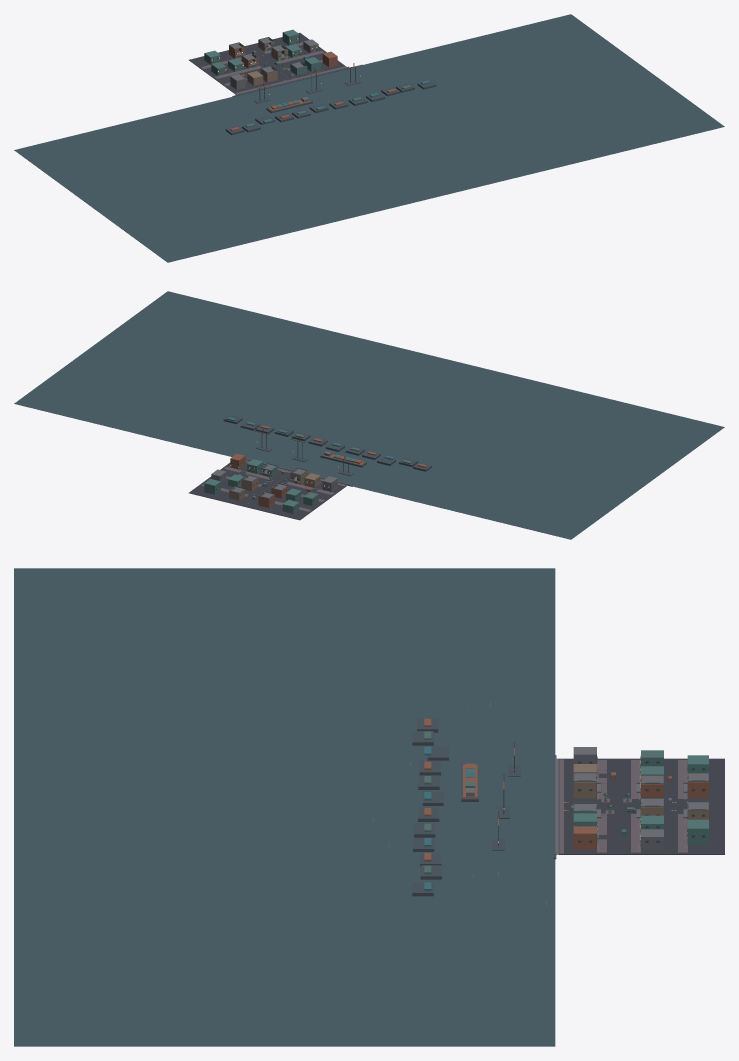
The model's file is harbor-full-balanced.glb.
3 views of the same model, one above another, from view 1: azimuth 30°, elevation 25°; view 2: azimuth 150°, elevation 25°; view 3: azimuth 270°, elevation 25° (orthographic). The views are drawn at different scales.
Parts seen in each view (by area): view 1: sea, far-harbor, lane-markings, ground-strip-2, ground-strip-0, ground-strip-3, ground-strip-1; view 2: sea, far-harbor, ground-strip-0, ground-strip-2, ground-strip-3, lane-markings, ground-strip-1; view 3: sea, far-harbor, lane-markings, ground-strip-3, ground-strip-1, ground-strip-2, ground-strip-0.
Part boxes in pixels (x1,y1,x2,y2): sea: (14,14,724,262); far-harbor: (225,80,436,135); lane-markings: (201,42,345,93); ground-strip-2: (245,42,317,79); ground-strip-0: (189,56,261,94); ground-strip-3: (272,32,346,72); ground-strip-1: (218,47,289,86); sea: (14,291,724,539); far-harbor: (223,415,431,471); ground-strip-0: (272,479,347,520); ground-strip-2: (216,468,289,506); ground-strip-3: (189,461,248,499); lane-markings: (201,461,345,511); ground-strip-1: (244,473,305,513); sea: (14,568,555,1046); far-harbor: (412,718,478,896); lane-markings: (559,759,687,853); ground-strip-3: (558,830,724,854); ground-strip-1: (558,782,724,806); ground-strip-2: (558,806,724,830); ground-strip-0: (558,758,724,782).
Bounding box in the file's own units: 640 × 25.22 × 402.
